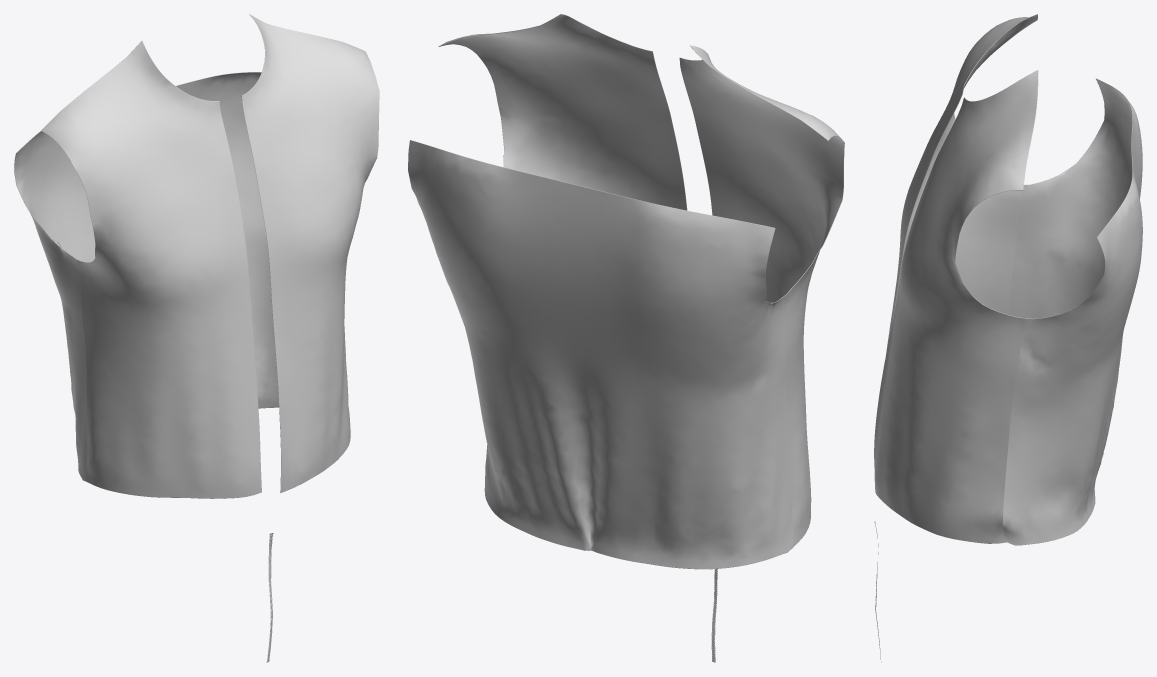
Rendered from Shirt_In.glb.
3 views of the same model, side by side, from view 1: azimuth 30°, elevation 25°; view 2: azimuth 150°, elevation 25°; view 3: azimuth 270°, elevation 25° (orthographic). The views are drawn at different scales.
Visible parts, largest first — view 1: Cloth; view 2: Cloth; view 3: Cloth.
Part boxes in pixels (x1=…): Cloth: x1=14, y1=14, x2=379, y2=662; Cloth: x1=408, y1=14, x2=844, y2=662; Cloth: x1=874, y1=14, x2=1142, y2=662.
Size of the model in its own units: 41.11 by 70.2 by 27.64.
Materials: 3 (2 with a texture image).
